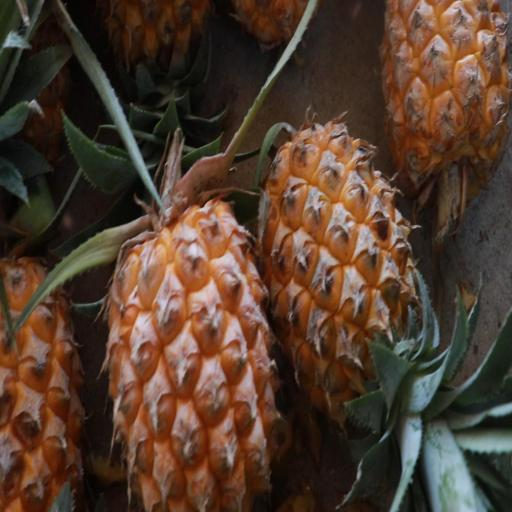Pineapple - v8 v1: (101, 115, 280, 512), (248, 114, 424, 443), (381, 0, 512, 239), (0, 197, 91, 511)
